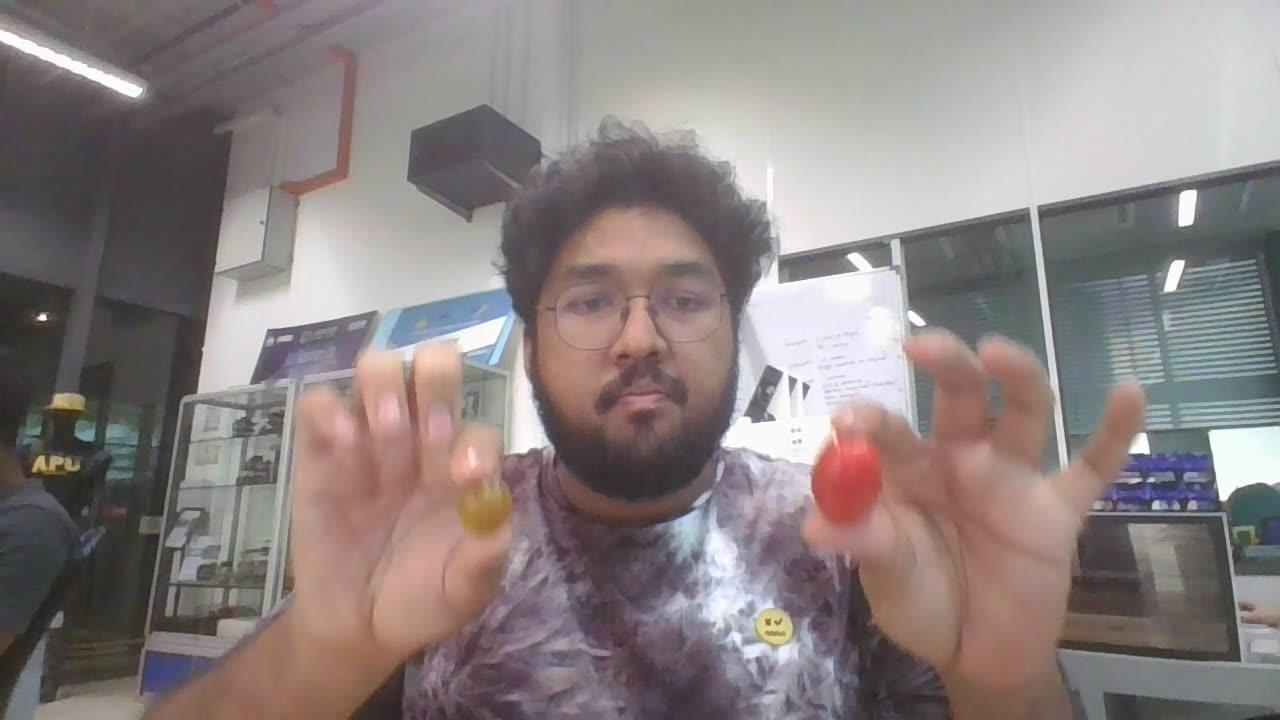red_cherry_tomato: (811, 439, 880, 525)
yellow_cherry_tomato: (458, 480, 510, 534)
